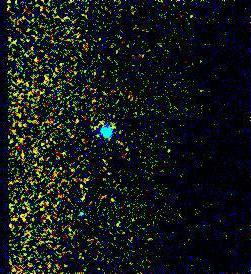star: (154, 134, 184, 164)
